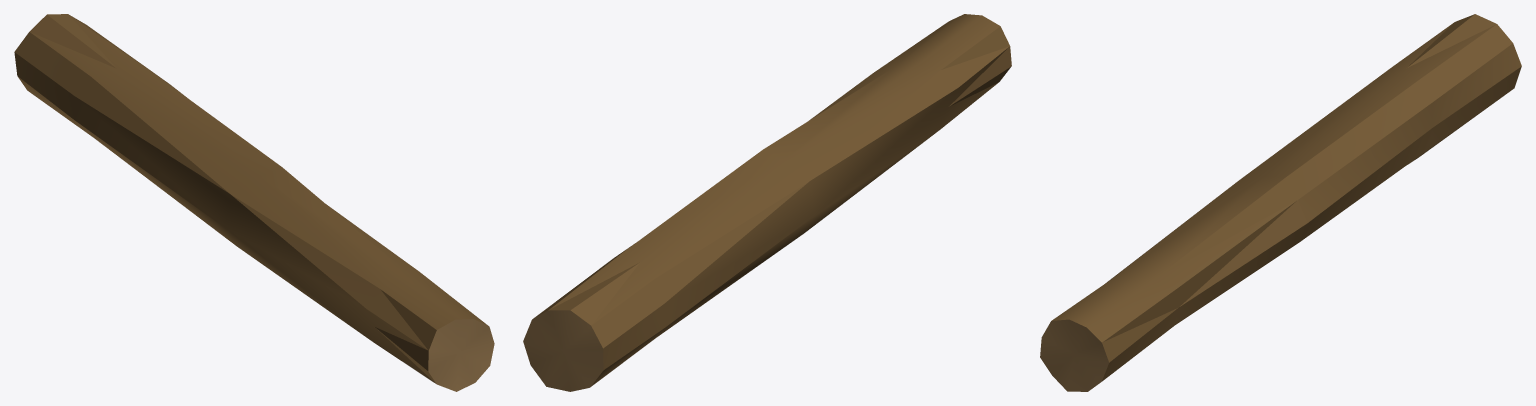
The model's file is Wooden_Beam_1_LOD1.fbx.
The picture shows the model from 3 angles, left to right: view 1: azimuth 30°, elevation 25°; view 2: azimuth 150°, elevation 25°; view 3: azimuth 330°, elevation 25°; orthographic projection.
Parts seen in each view (by area): view 1: pCylinder2; view 2: pCylinder2; view 3: pCylinder2.
Boxes of the visible parts, x1,y1,x2,y2 form: pCylinder2: [14, 14, 494, 391]; pCylinder2: [523, 14, 1011, 391]; pCylinder2: [1040, 14, 1521, 391].
Bounding box in the file's own units: 59.56 × 58.82 × 533.
